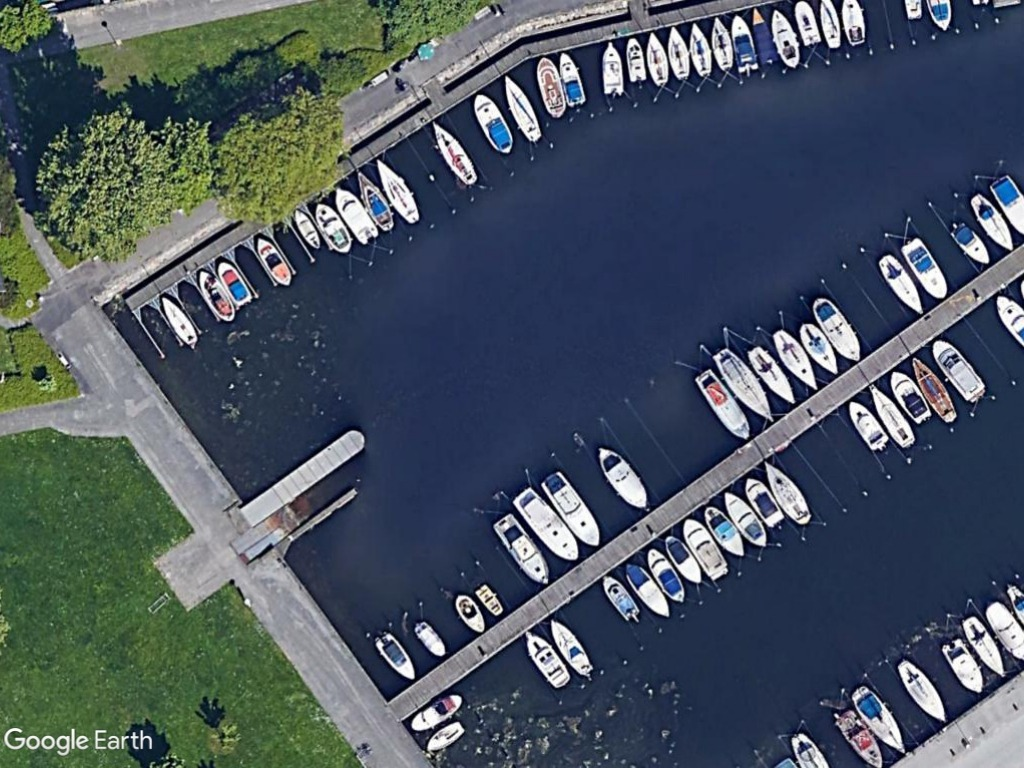boat: (510, 482, 588, 565), (536, 464, 605, 550), (709, 346, 778, 426), (691, 361, 757, 444), (847, 679, 913, 760), (487, 510, 555, 587), (593, 439, 655, 518), (807, 290, 867, 366), (893, 653, 952, 729), (424, 118, 486, 190), (824, 700, 887, 768), (771, 320, 827, 396), (906, 352, 962, 428), (929, 338, 992, 405), (368, 150, 425, 224), (864, 379, 920, 454), (899, 230, 953, 306), (956, 610, 1011, 683), (715, 487, 777, 551), (874, 247, 929, 319), (761, 457, 814, 531), (497, 68, 549, 143), (744, 342, 800, 411), (678, 515, 734, 584), (620, 557, 676, 626), (463, 88, 517, 159), (324, 177, 380, 245), (348, 163, 401, 234), (519, 626, 575, 693), (966, 186, 1019, 256), (544, 614, 600, 679), (937, 634, 991, 699), (738, 471, 793, 533), (642, 544, 694, 608), (887, 365, 935, 432), (403, 686, 464, 737), (370, 624, 420, 686), (795, 316, 844, 379), (946, 214, 999, 272), (699, 501, 751, 560), (846, 394, 893, 458), (659, 530, 707, 591), (527, 50, 569, 118), (765, 1, 804, 71), (308, 197, 355, 255), (154, 291, 200, 348), (418, 712, 473, 759), (553, 44, 590, 113), (722, 5, 758, 75), (598, 571, 643, 627), (195, 268, 237, 323), (251, 233, 292, 288), (641, 24, 675, 90), (704, 8, 738, 74), (659, 17, 694, 81), (448, 587, 491, 639), (214, 253, 252, 307), (408, 614, 451, 661), (598, 32, 626, 103), (684, 14, 714, 80), (618, 30, 651, 87), (790, 0, 824, 53), (287, 203, 323, 251)
